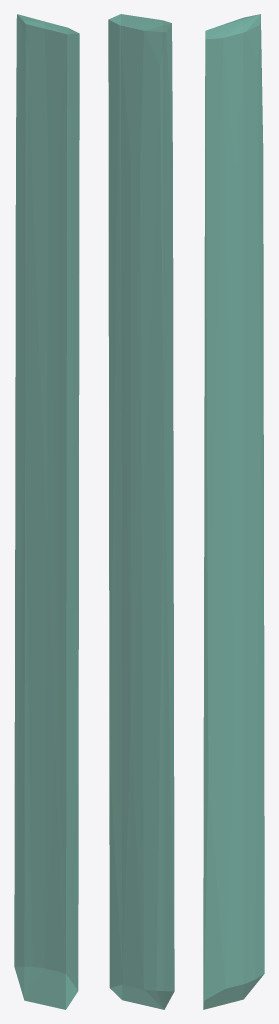
The picture shows the model from 3 angles, left to right: view 1: azimuth 30°, elevation 25°; view 2: azimuth 210°, elevation 25°; view 3: azimuth 270°, elevation 25°; orthographic projection.
Visible parts, largest first — view 1: Shape_IndexedFaceSet.033_Shape_IndexedFaceSet.4974; view 2: Shape_IndexedFaceSet.033_Shape_IndexedFaceSet.4974; view 3: Shape_IndexedFaceSet.033_Shape_IndexedFaceSet.4974.
Boxes of the visible parts, bbox=[...] form: Shape_IndexedFaceSet.033_Shape_IndexedFaceSet.4974: bbox=[14, 14, 79, 1009]; Shape_IndexedFaceSet.033_Shape_IndexedFaceSet.4974: bbox=[108, 14, 174, 1009]; Shape_IndexedFaceSet.033_Shape_IndexedFaceSet.4974: bbox=[203, 14, 264, 1009].
Bounding box in the file's own units: 0.0613 × 1.58 × 0.0897.
